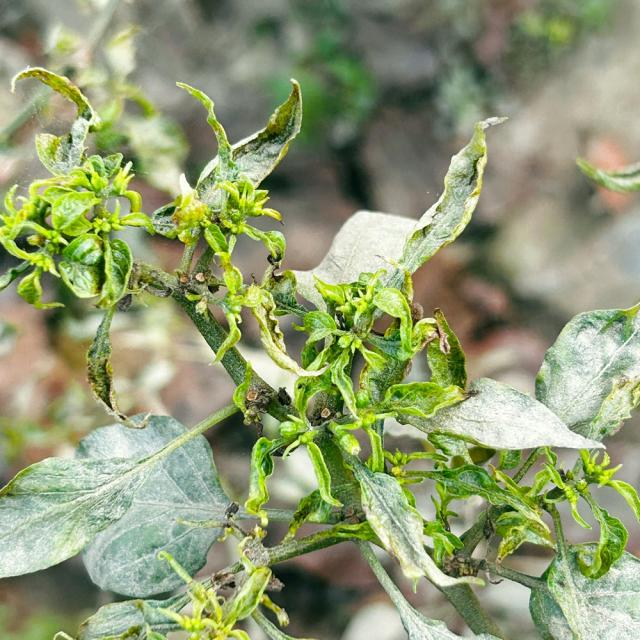Chilli_Leaf_Curl: (1, 64, 638, 638), (0, 410, 239, 600), (0, 65, 155, 311), (395, 113, 509, 276), (390, 375, 607, 455), (532, 301, 638, 443)
